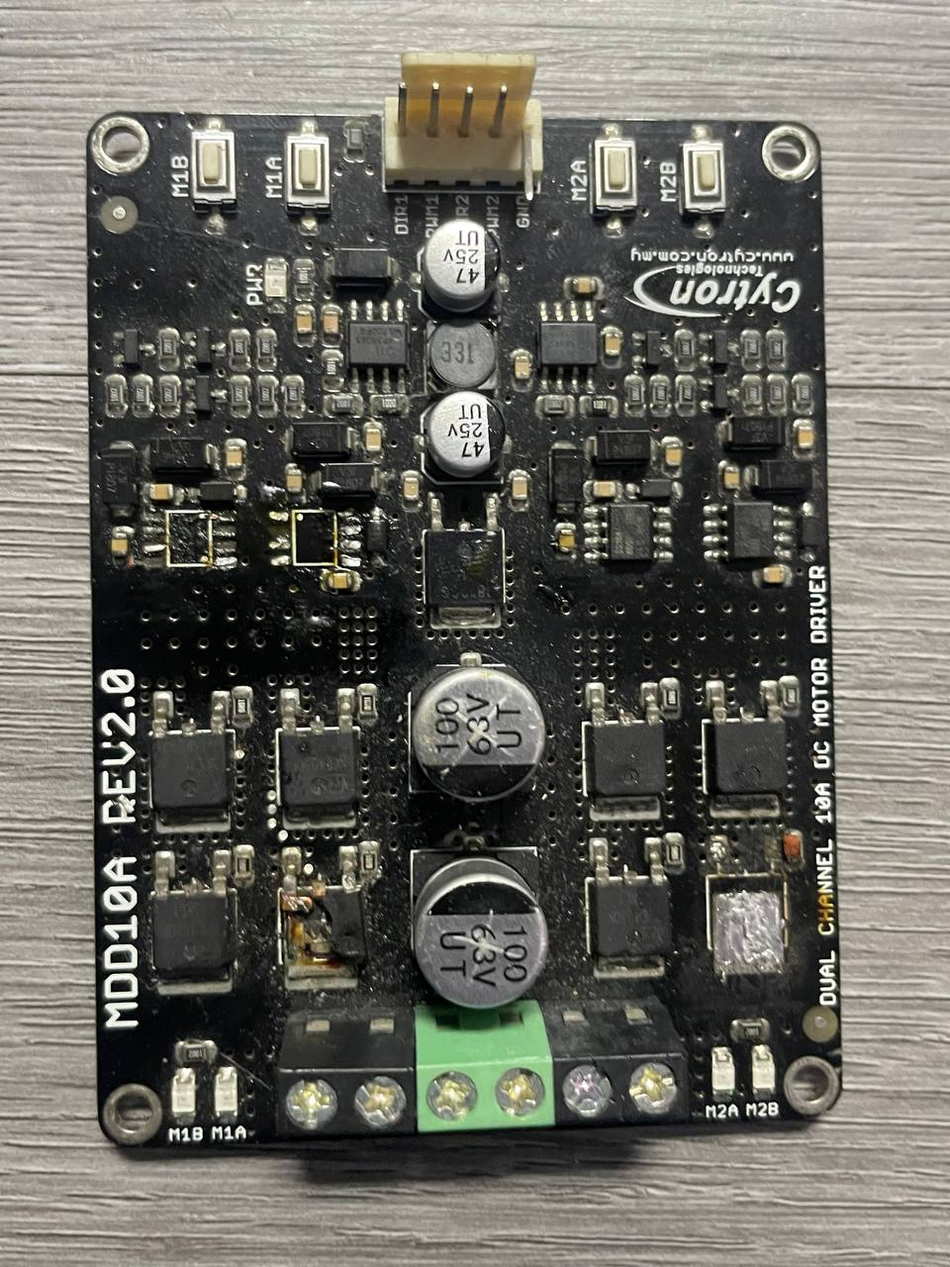bent_pin: (513, 121, 544, 211)
broken_comp: (273, 872, 377, 990)
missing_comp: (703, 860, 790, 969), (159, 504, 222, 576), (285, 502, 345, 572)
